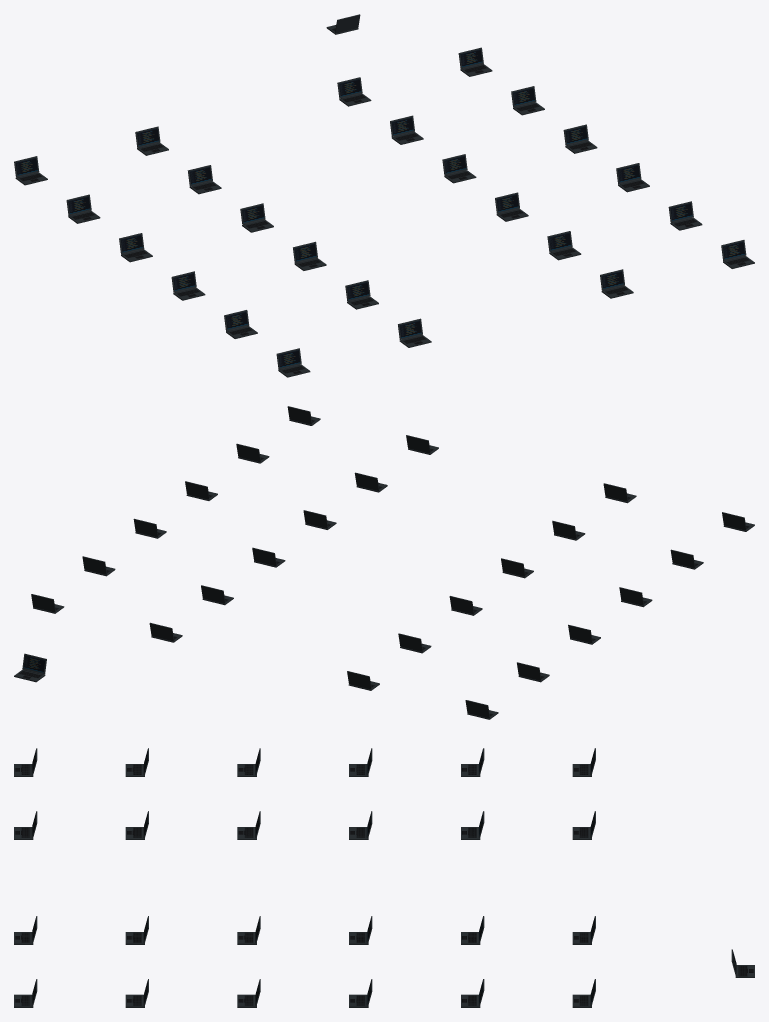
Rendered from SM_F03_Laptops.fbx.
3 views of the same model, one above another, from view 1: azimuth 30°, elevation 25°; view 2: azimuth 150°, elevation 25°; view 3: azimuth 270°, elevation 25° (orthographic). The views are drawn at different scales.
Parts seen in each view (by area): view 1: SM_F03_Laptops; view 2: SM_F03_Laptops; view 3: SM_F03_Laptops.
Boxes of the visible parts, x1,y1,x2,y2 form: SM_F03_Laptops: (14, 14, 754, 377); SM_F03_Laptops: (14, 406, 754, 719); SM_F03_Laptops: (14, 748, 754, 1007).
Size of the model in its own units: 694 by 896 by 22.81.
Materials: 4 (2 with a texture image).
